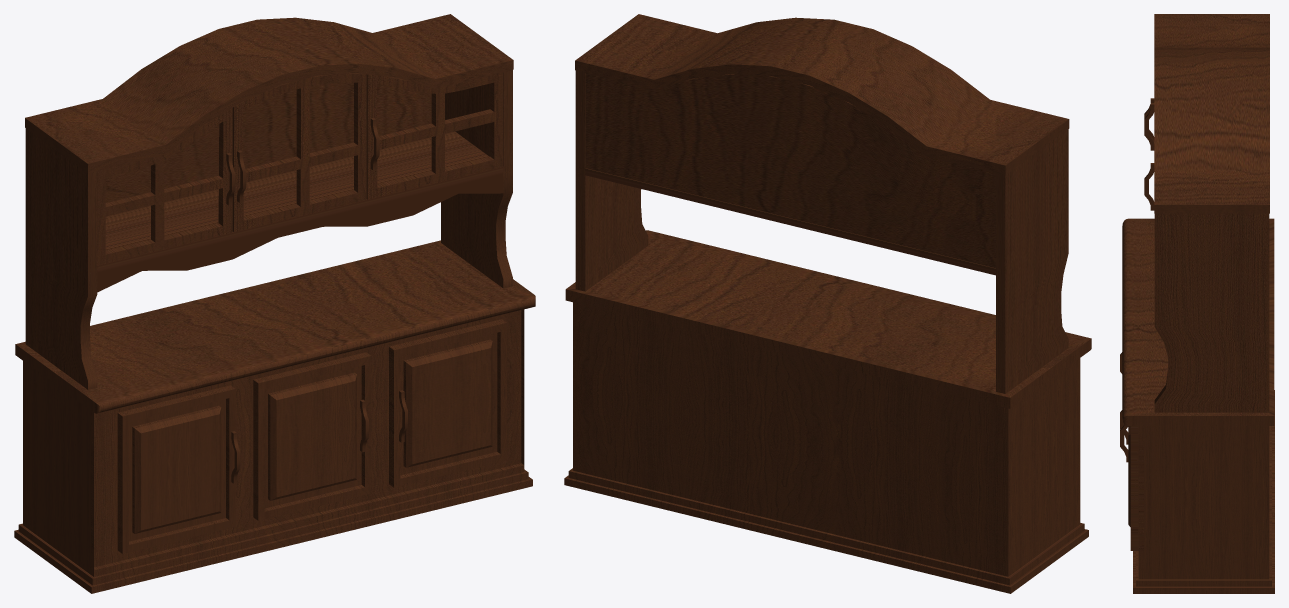
Rendered from schrank.fbx.
3 views of the same model, side by side, from view 1: azimuth 30°, elevation 25°; view 2: azimuth 150°, elevation 25°; view 3: azimuth 270°, elevation 25° (orthographic). The views are drawn at different scales.
Parts seen in each view (by area): view 1: pCube1, pCube13, pCube12, pCube4, pCube5, pCube6, pCube11, pCube20, pCube16, pCube15, pCube14; view 2: pCube1, pCube20, pCube13, pCube11, pCube12; view 3: pCube1, pCube13, pCube12, pCube6, pCube18, pCube19.
Part boxes in pixels (x1,y1,x2,y2): pCube1: [14, 240, 535, 593]; pCube13: [25, 14, 513, 173]; pCube12: [97, 70, 512, 292]; pCube4: [117, 385, 235, 553]; pCube5: [253, 352, 371, 520]; pCube6: [389, 319, 506, 487]; pCube11: [25, 128, 97, 389]; pCube20: [105, 82, 431, 202]; pCube16: [232, 73, 366, 232]; pCube15: [366, 72, 502, 199]; pCube14: [97, 108, 232, 265]; pCube1: [564, 230, 1091, 593]; pCube20: [585, 73, 995, 268]; pCube13: [575, 14, 1069, 175]; pCube11: [996, 129, 1068, 393]; pCube12: [575, 70, 995, 291]; pCube1: [1122, 218, 1274, 593]; pCube13: [1154, 14, 1269, 213]; pCube12: [1154, 213, 1269, 412]; pCube6: [1128, 426, 1138, 550]; pCube18: [1144, 103, 1154, 150]; pCube19: [1144, 163, 1154, 210].
Bounding box in the file's own units: 1.79 × 1.79 × 0.5937.
1 material, 1 textured.
